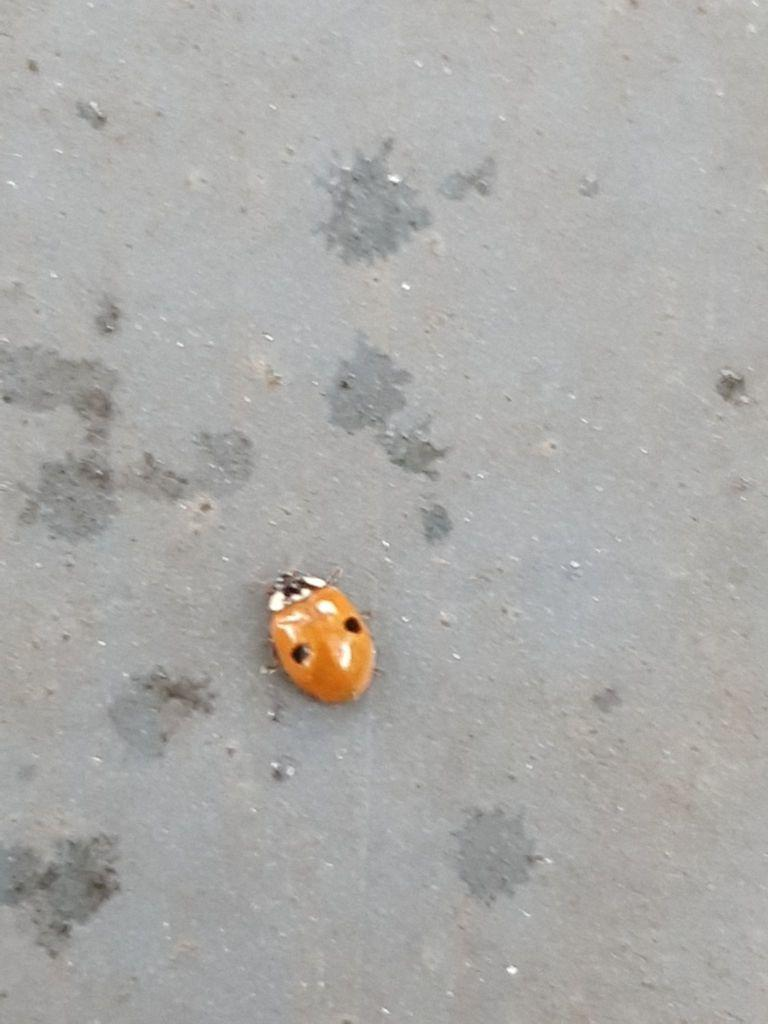ladybug: (259, 561, 384, 709)
